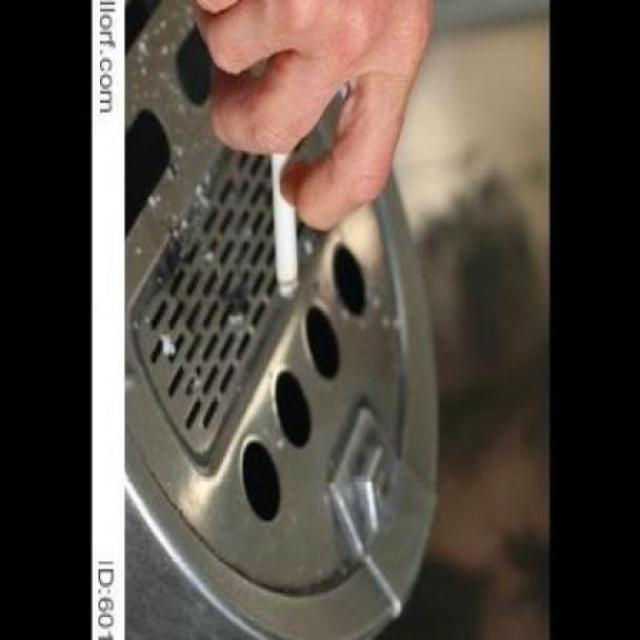rokok: (269, 140, 305, 298)
